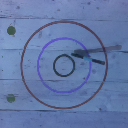Axe Tip: (73, 53, 86, 57)
